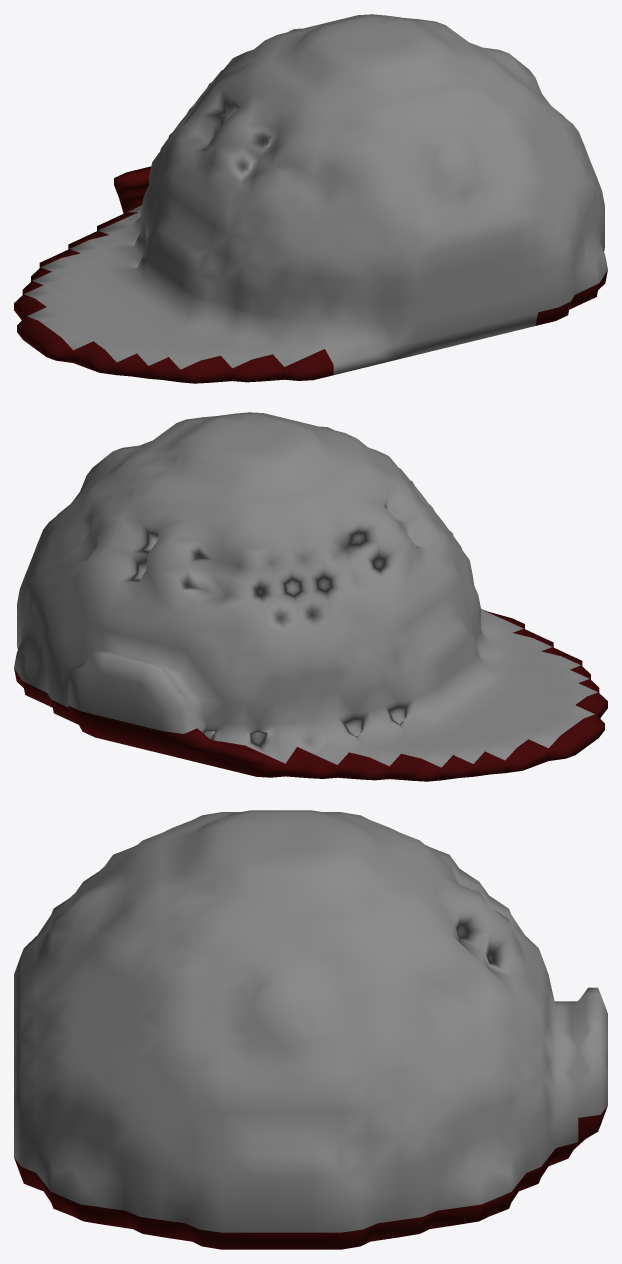
3 renders of one model, top to bottom at view 1: azimuth 30°, elevation 25°; view 2: azimuth 150°, elevation 25°; view 3: azimuth 270°, elevation 25°, orthographic. The views are drawn at different scales.
Size of the model in its own units: 1.34 by 0.55 by 1.
